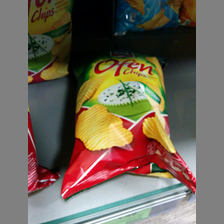chips: (72, 61, 191, 183)
